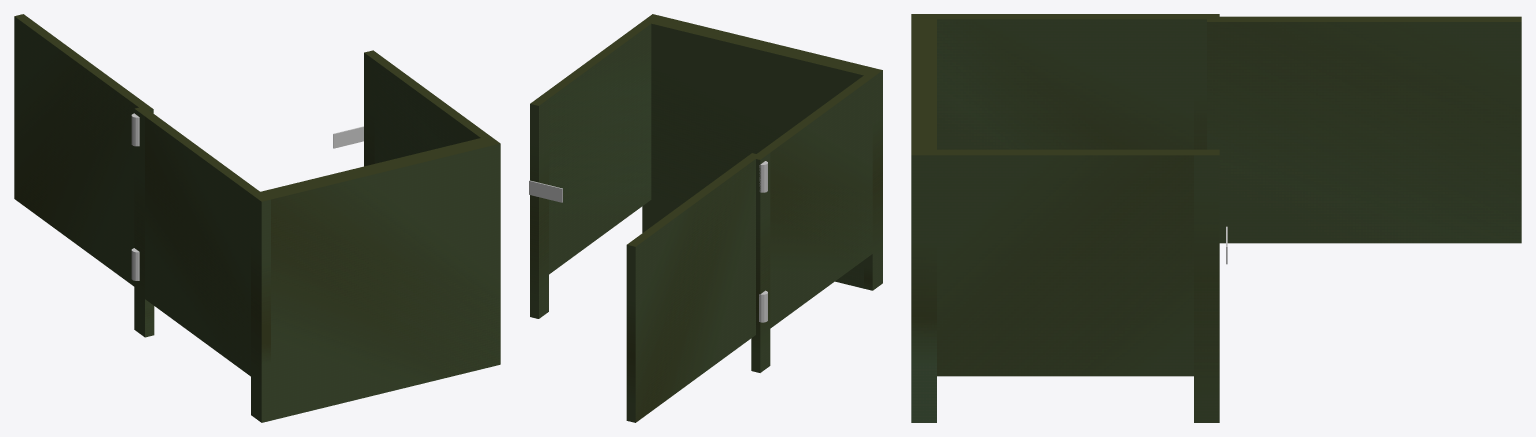
File: stallopen.gltf
3 renders of one model, left to right at view 1: azimuth 30°, elevation 25°; view 2: azimuth 150°, elevation 25°; view 3: azimuth 270°, elevation 25°, orthographic. The views are drawn at different scales.
Parts seen in each view (by area): view 1: cube (×8); view 2: cube (×8); view 3: cube (×6).
Boxes of the visible parts, bbox=[...] form: cube (×8): bbox=[14, 14, 500, 422]; cube (×8): bbox=[529, 14, 882, 422]; cube (×6): bbox=[911, 14, 1521, 422].
Bounding box in the file's own units: 3.31 × 2.88 × 5.94.
Materials: 1 (1 with a texture image).
